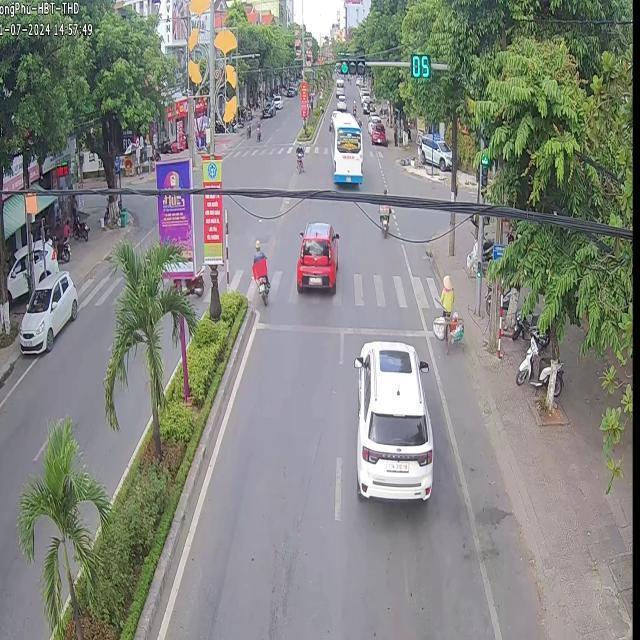car: (352, 340, 432, 498), (18, 269, 77, 350), (294, 220, 337, 292), (328, 109, 360, 182)
green_light: (411, 53, 431, 76), (339, 58, 364, 73), (480, 155, 487, 195)
motobike: (248, 238, 268, 305), (377, 202, 389, 236)
stop_line: (255, 320, 423, 337)
